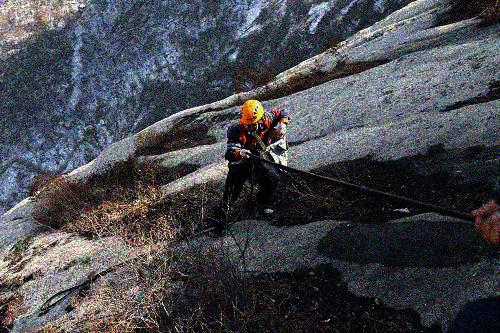helmet: (240, 99, 267, 134)
